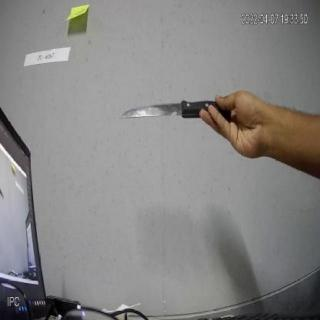knife: (117, 85, 236, 139)
